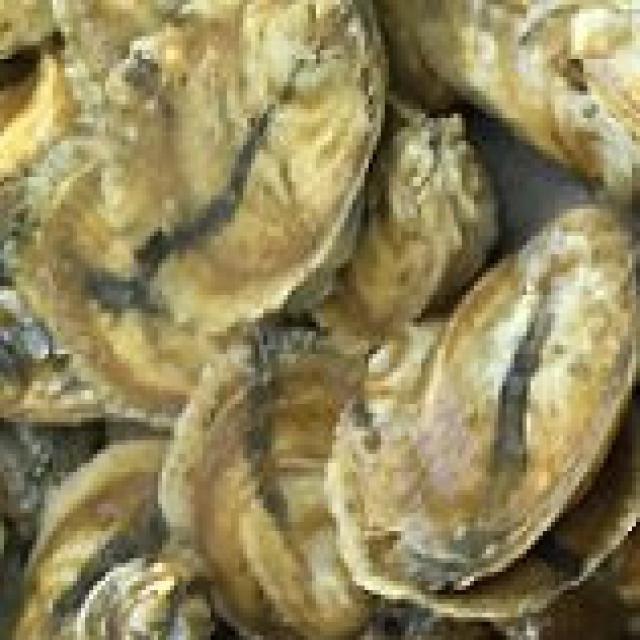Oyster-Indeterminate: (348, 207, 640, 581), (99, 0, 391, 326), (325, 354, 640, 614), (16, 138, 256, 431), (161, 327, 384, 640), (306, 104, 499, 342), (395, 0, 640, 182), (12, 439, 213, 640), (0, 184, 131, 426), (369, 0, 455, 117)
